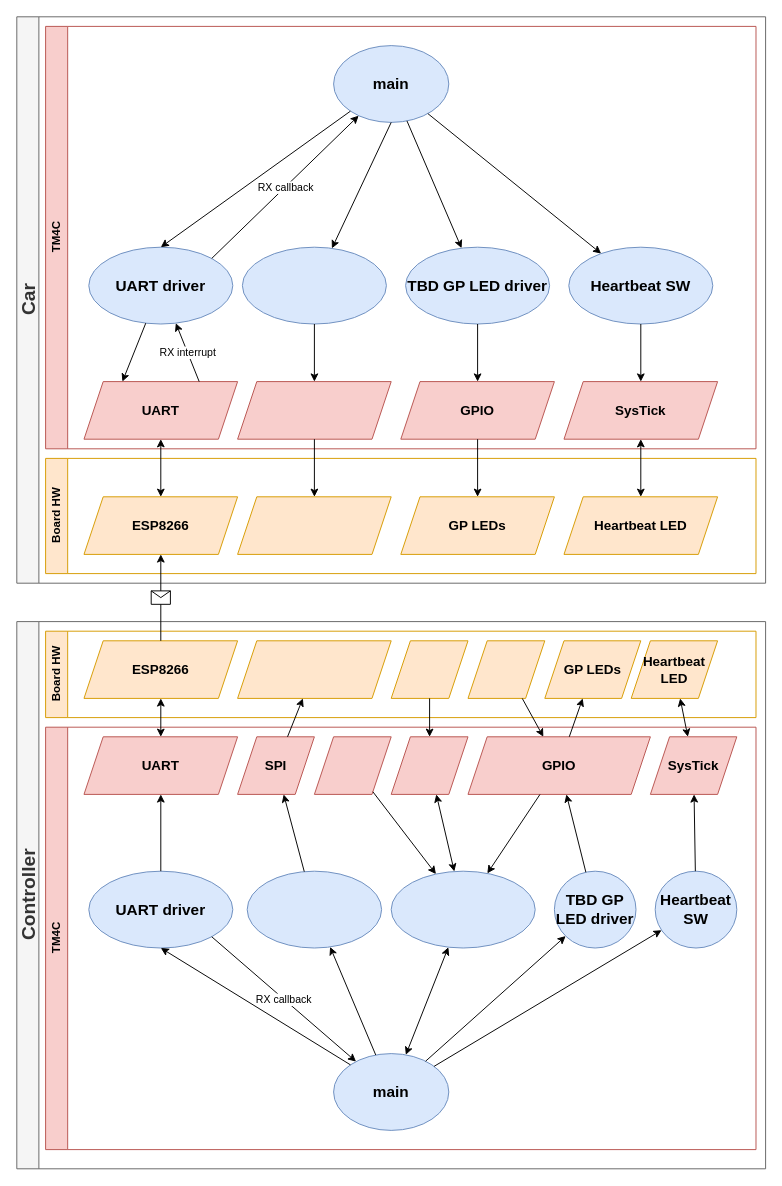
Image size: 782x1186. Some labels were removed from this diagram. The shapes that lost their labels are listed below. From the top down, each one's centre as x and y in pixels, then its label:
At pixel 313 285: "Motor driver (PWM driver)".
At pixel 314 410: "PWM".
At pixel 314 525: "Motor HW Driver".
At pixel 314 669: "LCD".
At pixel 429 669: "Slide Pot".
At pixel 506 669: "Buttons".
At pixel 352 765: "Timer".
At pixel 429 765: "ADC".
At pixel 314 909: "Display Driver".
At pixel 462 909: "User Controls driver".
